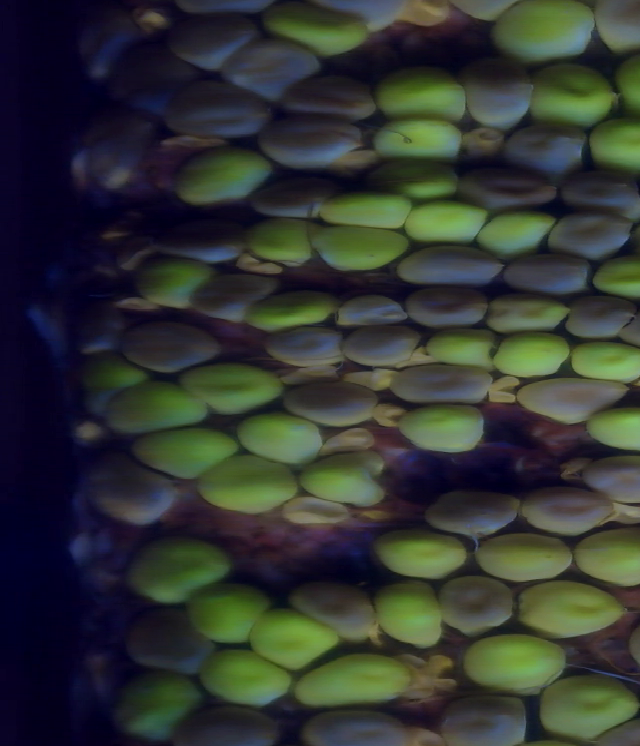fluorescent: (481, 1, 593, 65), (540, 671, 637, 736), (519, 578, 623, 634), (459, 636, 563, 691), (296, 657, 408, 707), (134, 427, 235, 482), (134, 542, 228, 601), (250, 611, 340, 672), (201, 455, 296, 512), (377, 68, 470, 126), (529, 62, 617, 122), (179, 148, 273, 204), (301, 452, 386, 510), (397, 402, 484, 455), (202, 647, 289, 700), (108, 382, 206, 429), (262, 4, 363, 49), (183, 365, 283, 410), (379, 532, 468, 581), (473, 538, 574, 580), (380, 582, 443, 649), (190, 583, 261, 642), (238, 416, 323, 465), (375, 115, 469, 158), (312, 225, 408, 266), (574, 531, 640, 587), (495, 331, 570, 380), (312, 193, 408, 231), (476, 210, 554, 256), (140, 256, 207, 308), (404, 200, 487, 241), (248, 288, 335, 327), (372, 160, 454, 201), (246, 221, 318, 267), (485, 295, 571, 332), (423, 327, 495, 370), (570, 338, 640, 380), (586, 409, 640, 458), (77, 349, 144, 388), (593, 117, 640, 172), (593, 256, 640, 301)
nonfluorescent: (166, 82, 272, 143), (224, 36, 313, 96), (117, 44, 192, 115), (93, 456, 169, 524), (400, 242, 503, 292), (266, 117, 363, 168), (134, 603, 203, 674), (464, 58, 532, 130), (501, 122, 589, 176), (501, 248, 594, 299), (124, 321, 216, 372), (522, 485, 612, 537), (440, 692, 526, 746), (90, 119, 160, 185), (289, 585, 373, 640), (175, 702, 280, 746), (562, 169, 640, 227), (278, 78, 378, 122), (167, 17, 253, 68), (459, 165, 561, 207), (545, 212, 632, 260), (288, 384, 378, 429), (440, 575, 510, 632), (386, 364, 490, 402), (518, 382, 626, 418), (191, 273, 273, 320), (155, 219, 243, 262), (401, 286, 489, 327), (263, 324, 345, 367), (433, 495, 518, 536), (75, 17, 134, 76), (303, 708, 404, 742), (563, 297, 634, 345), (251, 172, 332, 214), (343, 325, 420, 365), (585, 454, 640, 504), (82, 306, 128, 359), (337, 298, 405, 328)
